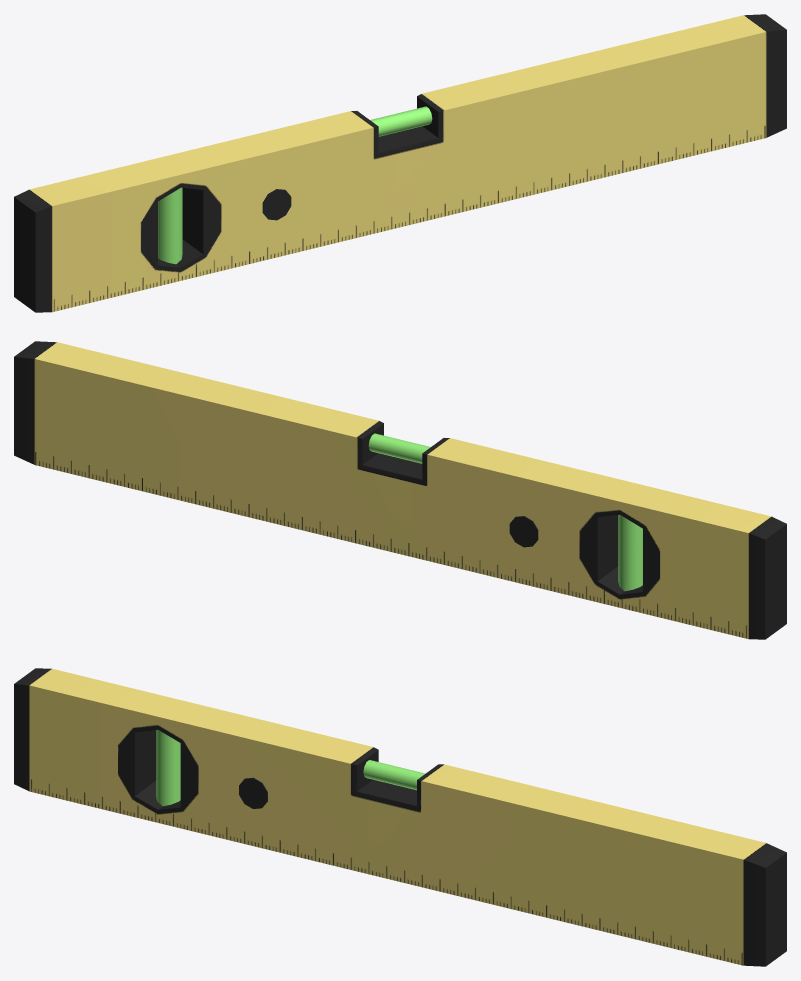
Rendered from Level.fbx.
The picture shows the model from 3 angles, top to bottom: view 1: azimuth 30°, elevation 25°; view 2: azimuth 150°, elevation 25°; view 3: azimuth 330°, elevation 25°; orthographic projection.
Visible parts, largest first — view 1: polySurface8, polySurface10, polySurface11, polySurface9; view 2: polySurface8, polySurface10, polySurface11, polySurface9; view 3: polySurface8, polySurface10, polySurface11, polySurface9.
Part boxes in pixels (<box>): polySurface8: <box>14,14,786,312</box>; polySurface10: <box>158,187,182,264</box>; polySurface11: <box>370,106,432,136</box>; polySurface9: <box>262,189,291,220</box>; polySurface8: <box>14,341,786,639</box>; polySurface10: <box>618,514,642,591</box>; polySurface11: <box>368,433,430,463</box>; polySurface9: <box>509,516,538,547</box>; polySurface8: <box>14,668,786,966</box>; polySurface10: <box>156,730,180,806</box>; polySurface11: <box>363,760,425,790</box>; polySurface9: <box>239,777,267,808</box>.
Bounding box in the file's own units: 9.09 × 1.23 × 0.503.
